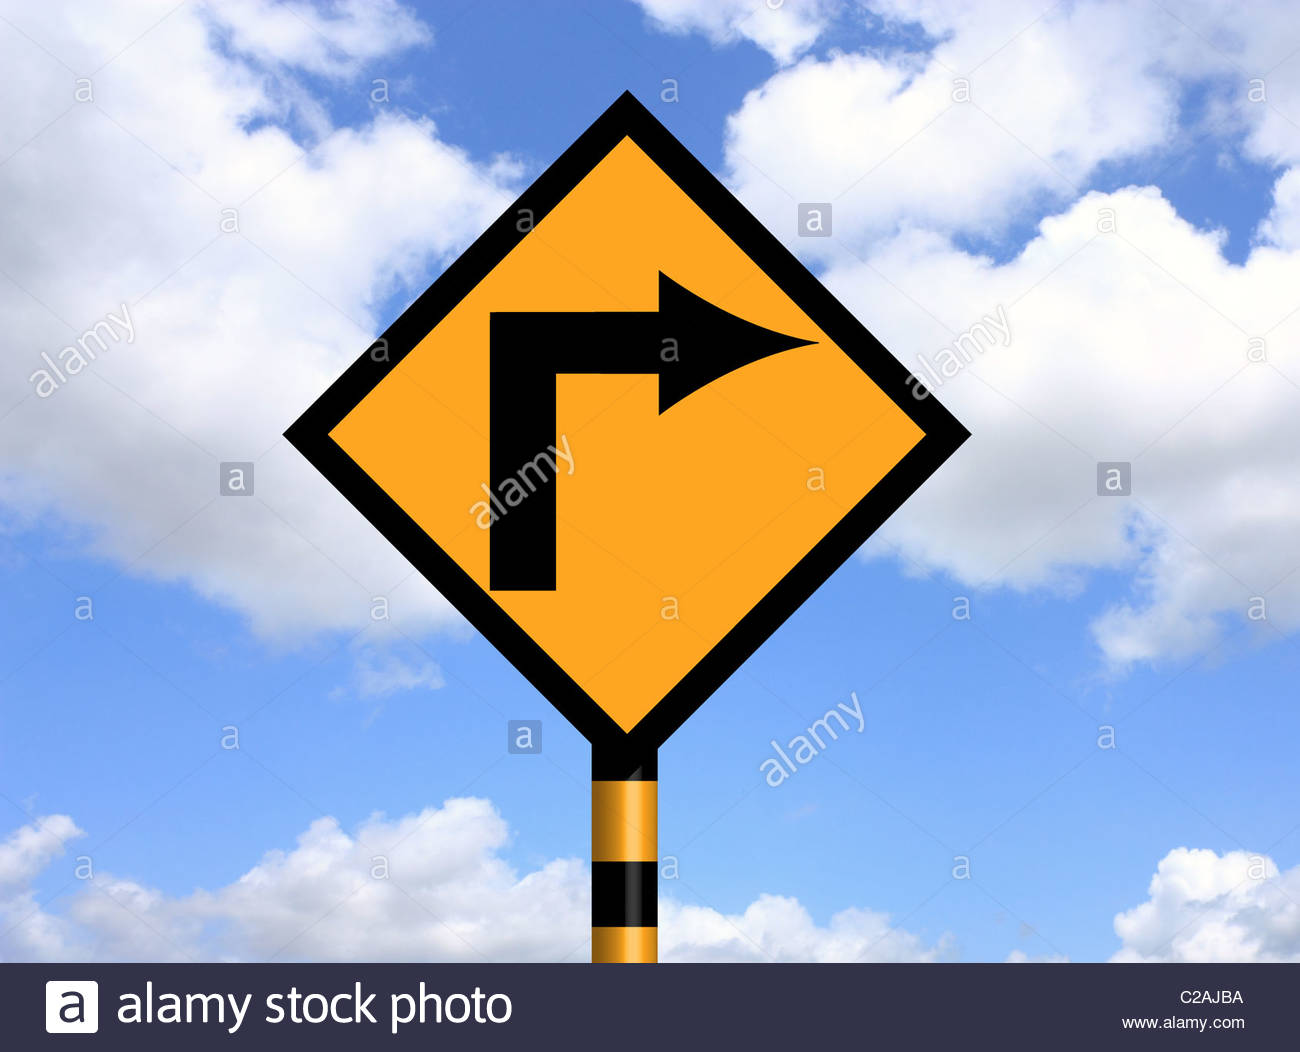right: (276, 87, 991, 787)
